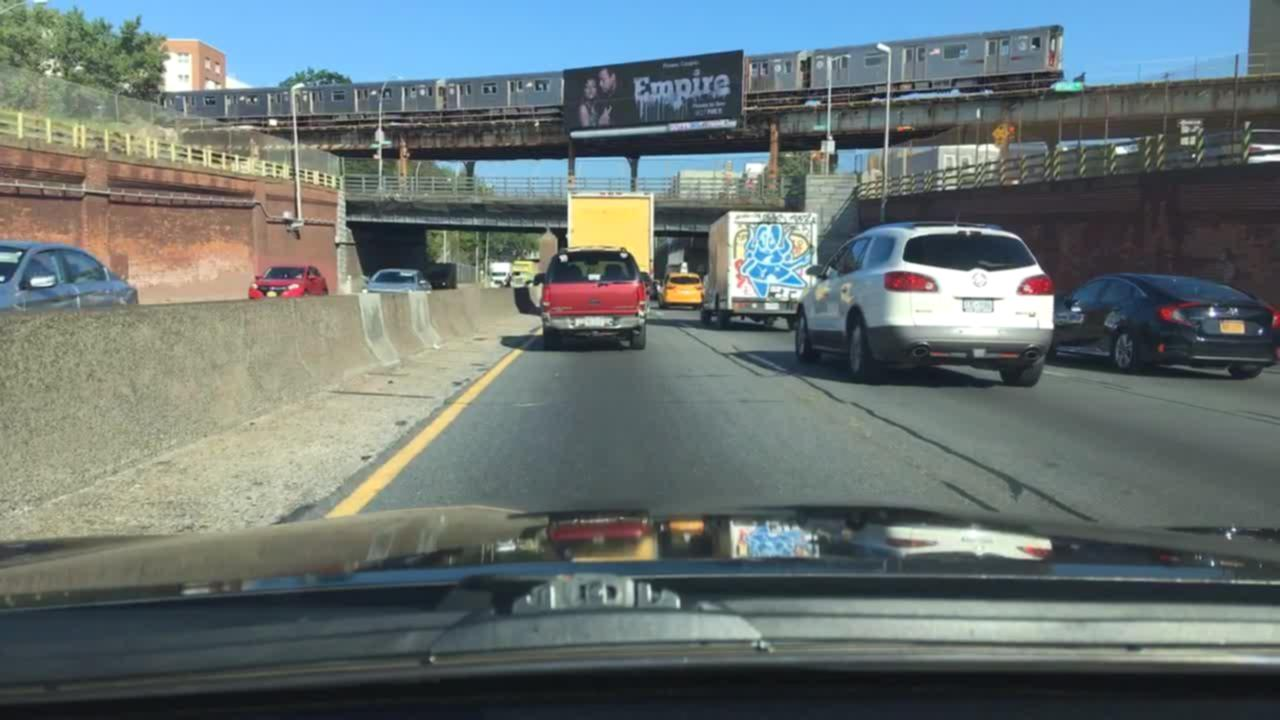Mercury: (970, 267, 986, 291)
